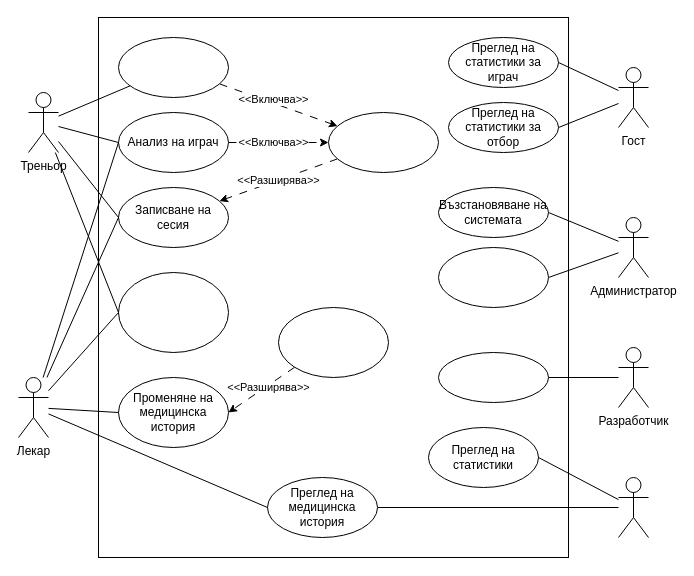
This 694x576 diagram has some shape labels left out. The box of each missing label's shape, as (x1, y1, x2, y2) in pixels:
Анализ на отбор: (118, 36, 228, 98)
Достъп до мониторинг системи: (438, 246, 548, 308)
Играч: (618, 476, 648, 538)
Назначаване на изследвания: (278, 306, 388, 378)
Преглед на жизнени показатели за играч: (118, 272, 228, 352)
Прилагане на алгоритъм: (328, 112, 438, 172)
Управление на алгоритми: (438, 352, 548, 402)
